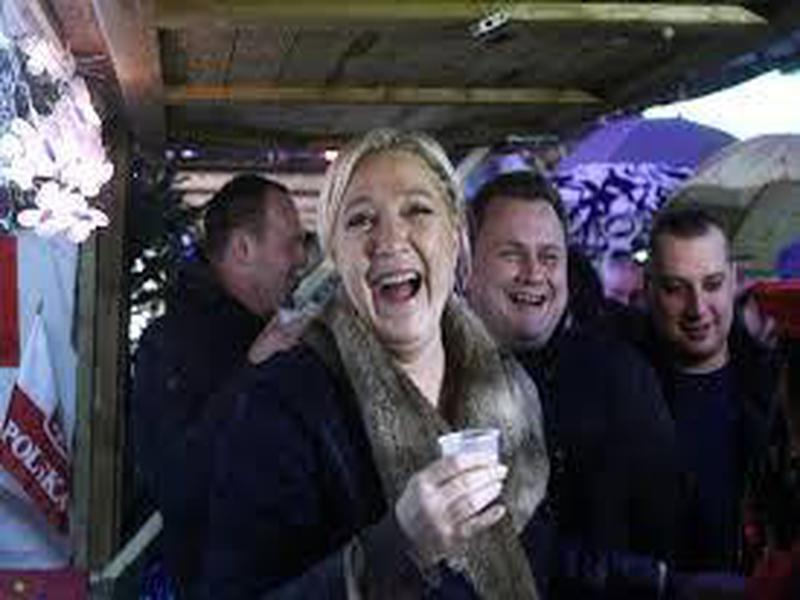without_mask: (331, 167, 453, 348), (474, 197, 568, 342), (657, 236, 731, 357), (248, 187, 302, 308)
